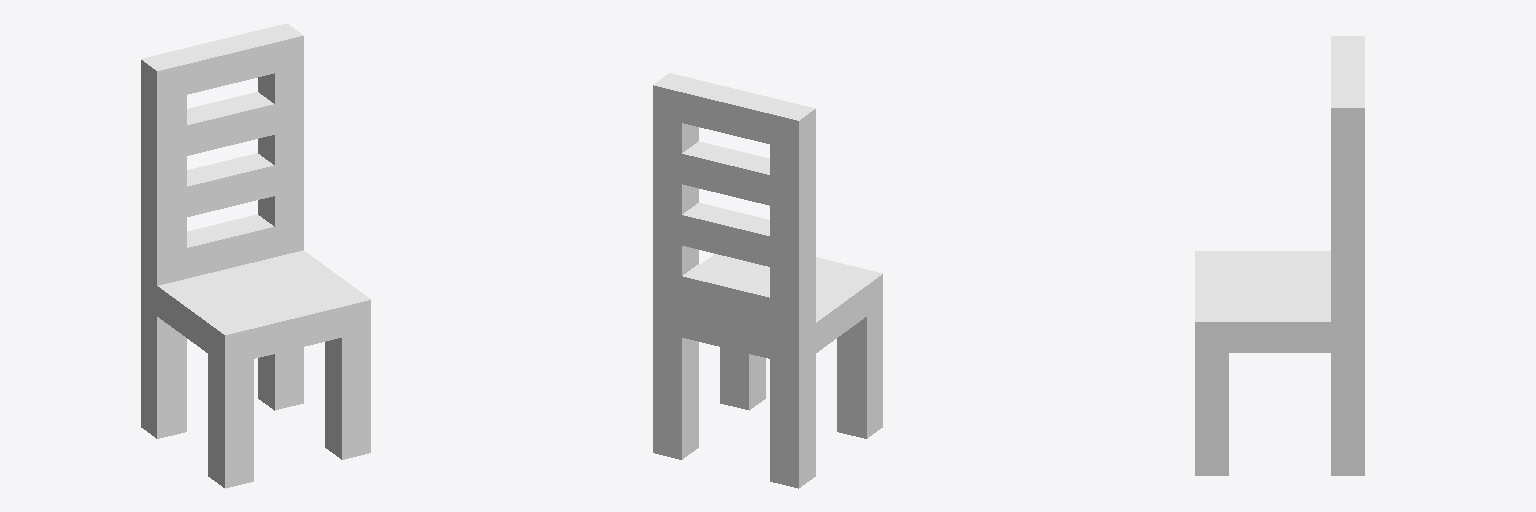
Rendered from Chair01.obj.
The picture shows the model from 3 angles: view 1: azimuth 30°, elevation 25°; view 2: azimuth 150°, elevation 25°; view 3: azimuth 270°, elevation 25°; orthographic projection.
Parts seen in each view (by area): view 1: object 1; view 2: object 1; view 3: object 1.
Part boxes in pixels (x1,y1,x2,y2): object 1: (141,23,370,488); object 1: (653,73,882,488); object 1: (1195,36,1364,475).
Bounding box in the file's own units: 0.5 × 1.2 × 0.5.